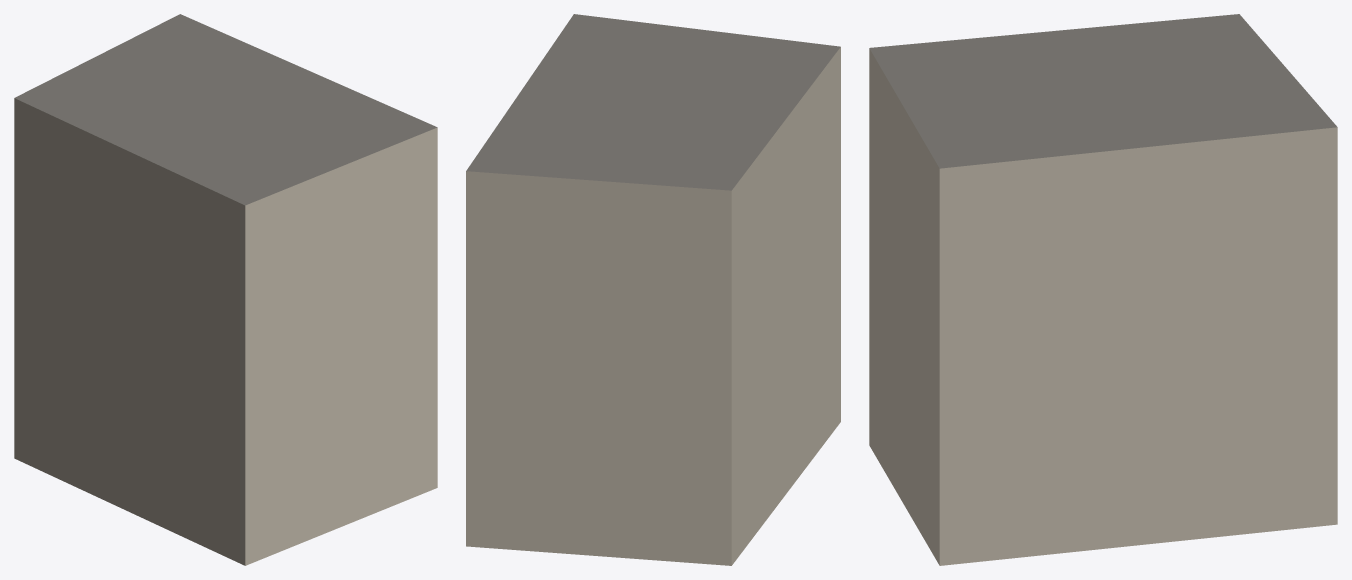
3 renders of one model, left to right at view 1: azimuth 30°, elevation 25°; view 2: azimuth 150°, elevation 25°; view 3: azimuth 270°, elevation 25°, orthographic. The views are drawn at different scales.
Parts seen in each view (by area): view 1: HP-w1197047256; view 2: HP-w1197047256; view 3: HP-w1197047256.
Part boxes in pixels (bbox=[...]): HP-w1197047256: bbox=[14, 14, 437, 565]; HP-w1197047256: bbox=[466, 14, 840, 565]; HP-w1197047256: bbox=[869, 14, 1337, 565].
Size of the model in its own units: 15.03 by 18 by 19.24.
